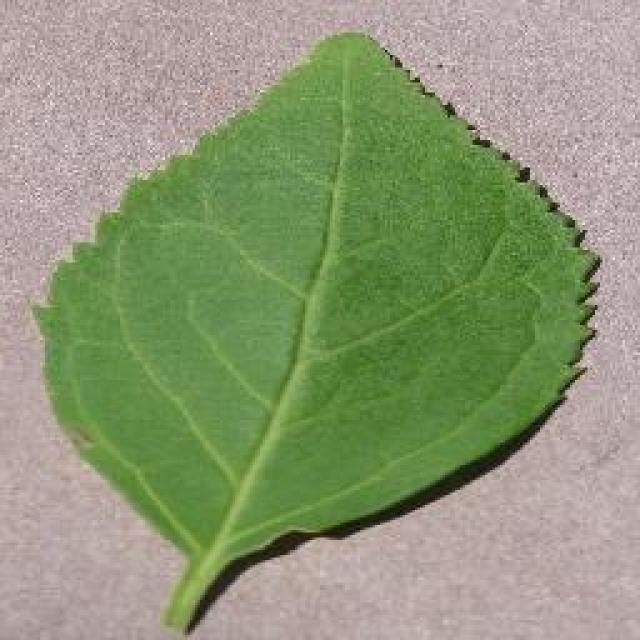Cherry___healthy: (17, 17, 610, 640)
